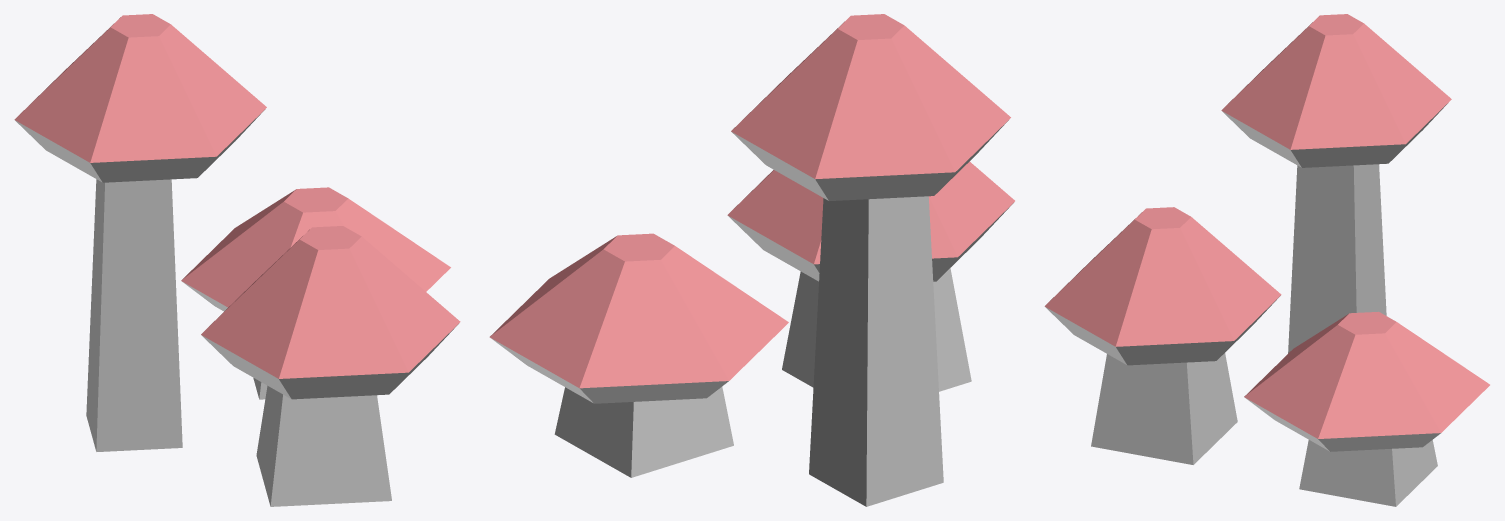
The model's file is mushrooms.glb.
The picture shows the model from 3 angles, left to right: view 1: azimuth 30°, elevation 25°; view 2: azimuth 150°, elevation 25°; view 3: azimuth 270°, elevation 25°; orthographic projection. The views are drawn at different scales.
Parts seen in each view (by area): view 1: mushrooms; view 2: mushrooms; view 3: mushrooms.
Part boxes in pixels (<box>): mushrooms: <box>14,14,460,506</box>; mushrooms: <box>489,14,1014,506</box>; mushrooms: <box>1044,14,1489,506</box>.
Size of the model in its own units: 0.2598 by 0.2505 by 0.274.
